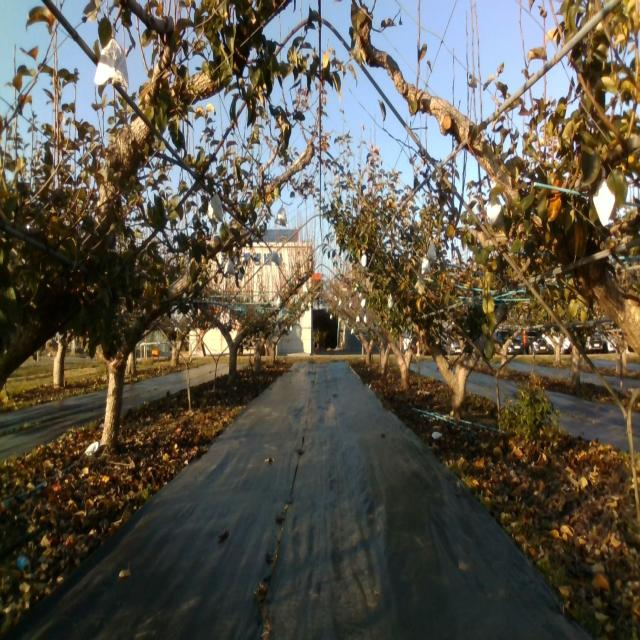pearbags: (94, 42, 129, 94), (591, 179, 616, 226), (486, 197, 504, 227), (208, 193, 222, 223), (275, 206, 288, 228), (427, 240, 437, 265)
